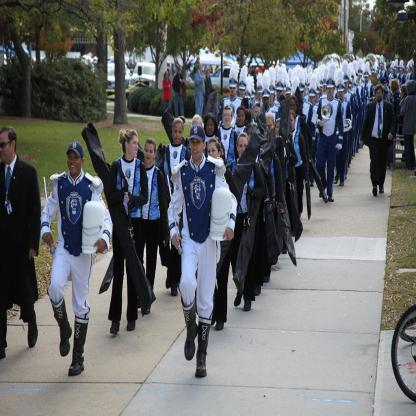face: (1, 134, 13, 164), (191, 138, 204, 161), (68, 153, 82, 174), (129, 136, 139, 157), (145, 144, 155, 165), (174, 125, 184, 144), (239, 139, 249, 158), (209, 145, 219, 162), (248, 130, 257, 147), (207, 120, 215, 137), (266, 119, 274, 136), (276, 123, 284, 140), (238, 111, 246, 125), (225, 111, 232, 125), (255, 108, 262, 122), (289, 115, 295, 131), (290, 101, 297, 114), (377, 90, 383, 103), (263, 97, 270, 108), (230, 85, 237, 96), (268, 92, 275, 102), (240, 87, 246, 96), (286, 93, 292, 102), (277, 89, 283, 97), (328, 88, 334, 96), (311, 95, 316, 104), (339, 91, 344, 99), (320, 85, 323, 92), (166, 72, 169, 79), (259, 92, 262, 98), (324, 85, 327, 90), (391, 69, 394, 74), (381, 66, 384, 70), (366, 76, 368, 81), (179, 70, 181, 75), (209, 71, 211, 76)
